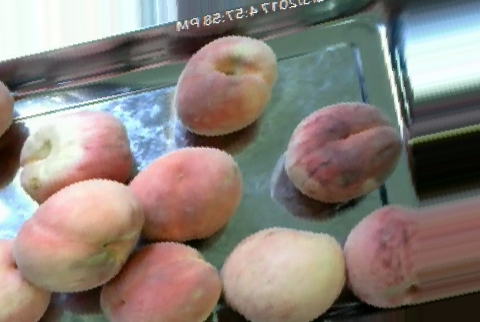Peach: (17, 181, 137, 291), (221, 225, 340, 322), (284, 101, 399, 201), (16, 108, 133, 205), (126, 146, 240, 242), (173, 34, 277, 134), (100, 240, 218, 322)
